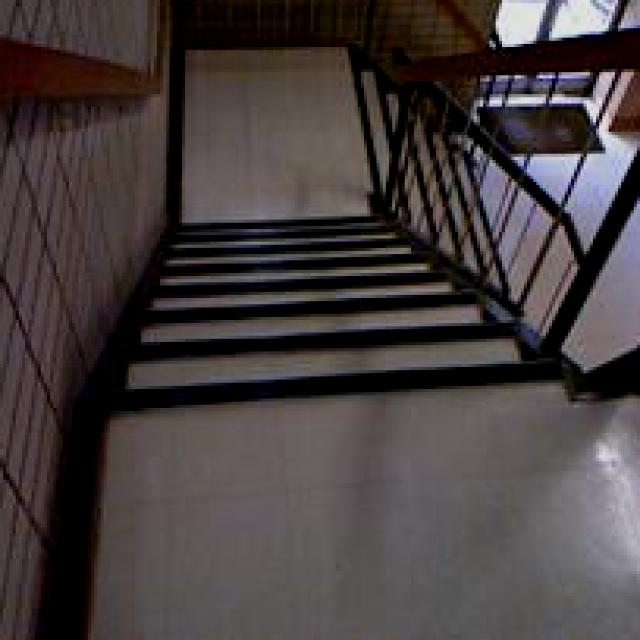downstair: (77, 227, 557, 421)
